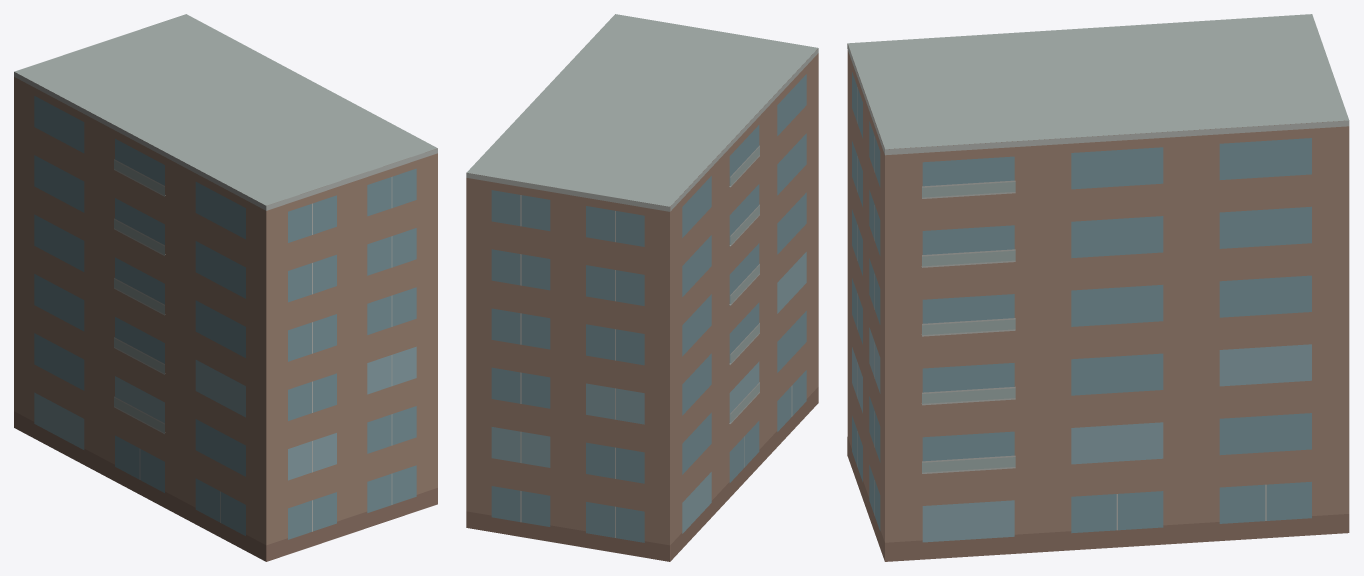
The model's file is survey-upis-32575281.glb.
3 views of the same model, side by side, from view 1: azimuth 30°, elevation 25°; view 2: azimuth 150°, elevation 25°; view 3: azimuth 270°, elevation 25° (orthographic). The views are drawn at different scales.
Parts seen in each view (by area): view 1: survey-upis-32575281.tmp; view 2: survey-upis-32575281.tmp; view 3: survey-upis-32575281.tmp.
Part boxes in pixels (x1,y1,x2,y2): survey-upis-32575281.tmp: (14, 14, 437, 561); survey-upis-32575281.tmp: (466, 14, 818, 561); survey-upis-32575281.tmp: (847, 14, 1349, 561).
Size of the model in its own units: 12.04 by 17.1 by 18.86.
